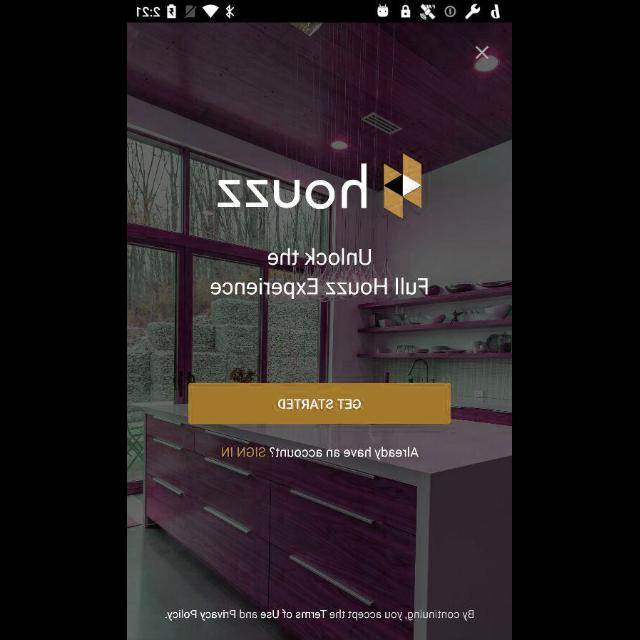backgroundimage: (128, 24, 512, 640)
icon: (475, 46, 489, 60)
image: (218, 153, 422, 220)
text: (211, 248, 429, 300), (166, 608, 474, 622), (222, 446, 420, 460)
textbutton: (188, 384, 452, 424)
uppertaskbar: (128, 1, 512, 23)
